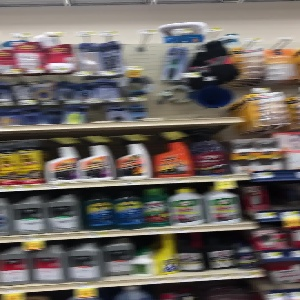void: (272, 182, 300, 211)
